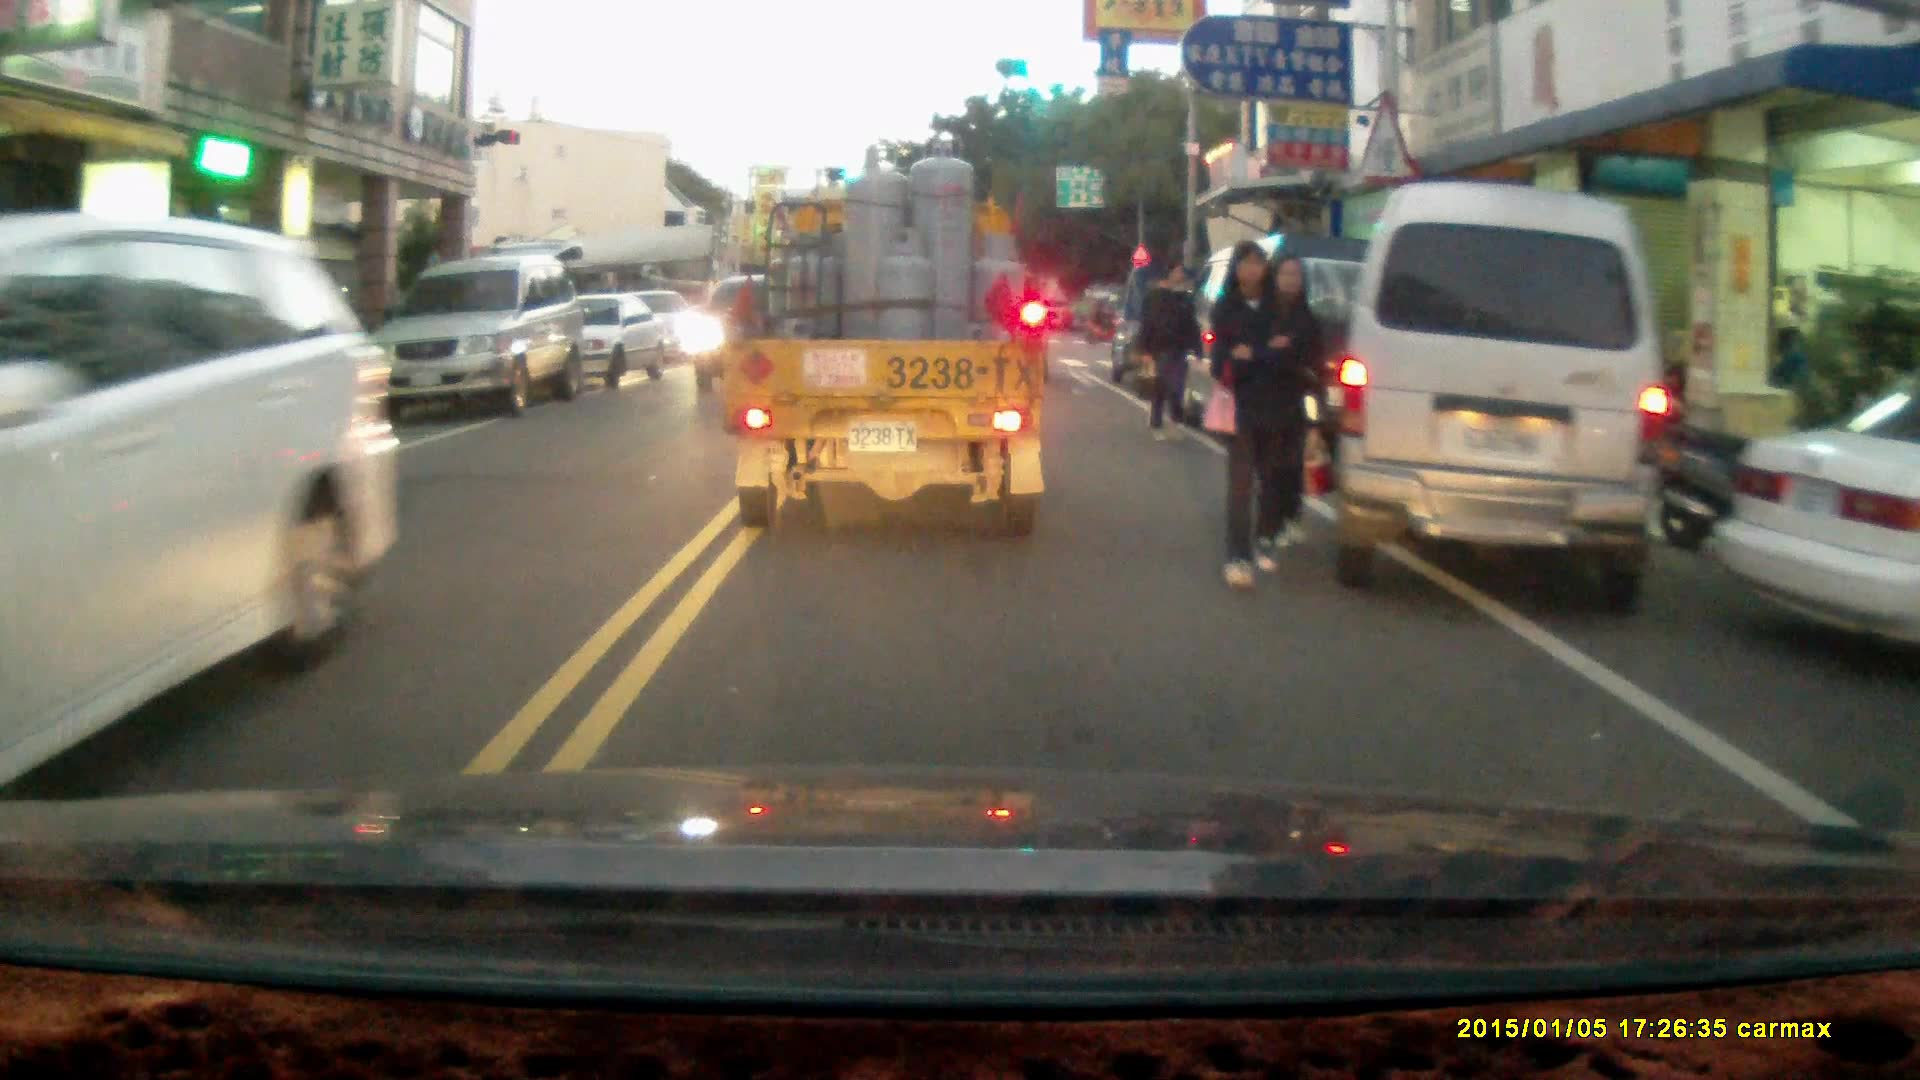pedestrian: (1206, 233, 1293, 585), (1138, 261, 1200, 448)
rider: (1084, 292, 1122, 343)
vehicle: (1, 209, 401, 790), (1327, 183, 1672, 616), (717, 135, 1053, 534), (1161, 228, 1447, 443), (1716, 388, 1920, 646), (364, 247, 589, 425), (520, 291, 674, 391)
